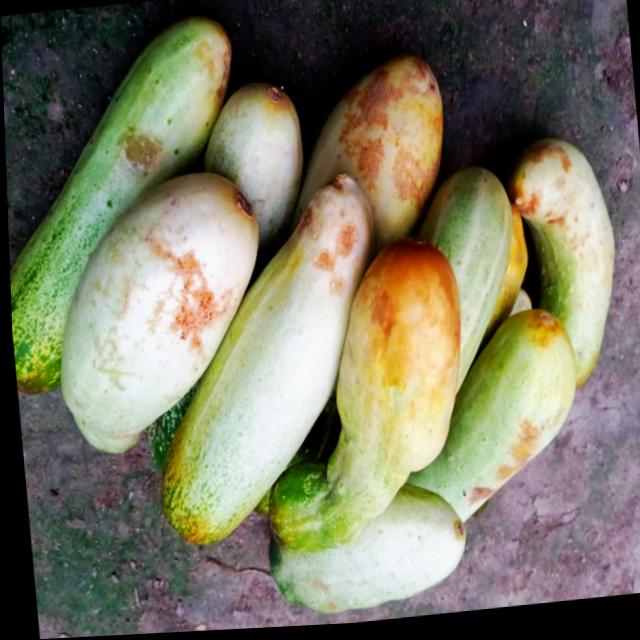Belly-Rot: (327, 58, 457, 222), (139, 220, 238, 365), (291, 173, 367, 305), (457, 423, 549, 520), (509, 144, 588, 244), (201, 29, 243, 106), (118, 122, 165, 184), (363, 294, 402, 349), (307, 577, 334, 621)
